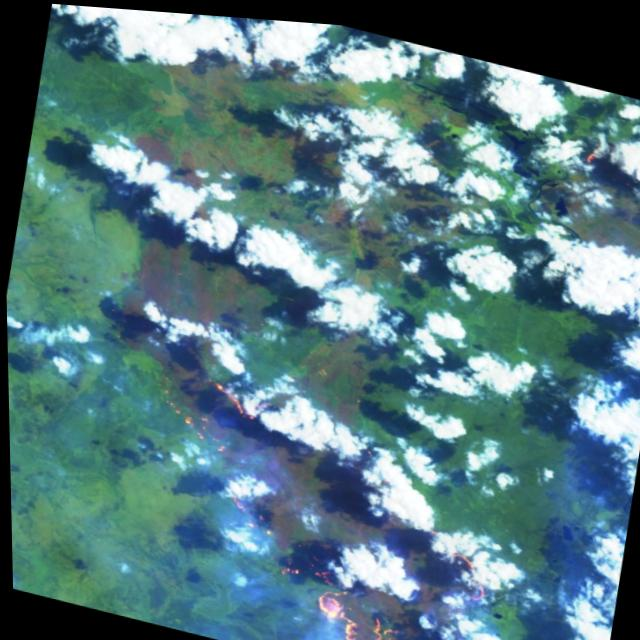fire: (261, 485, 495, 640), (145, 358, 279, 461), (576, 131, 606, 165), (631, 227, 640, 270)
